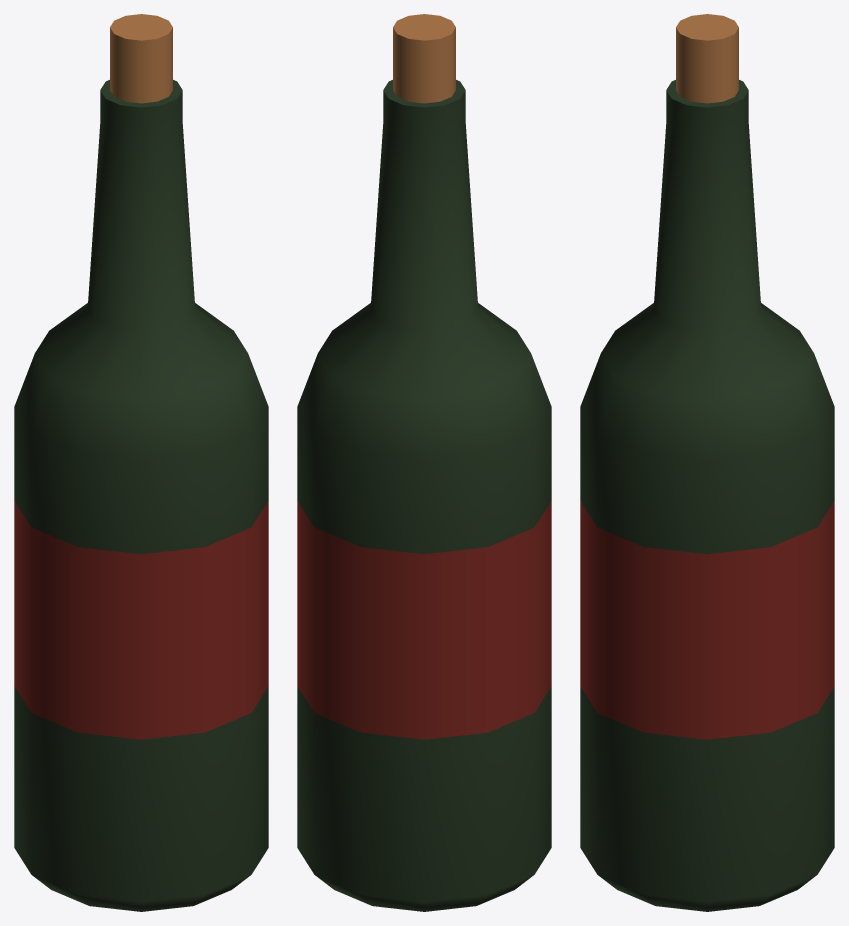
File: Bottiglia.fbx
3 renders of one model, left to right at view 1: azimuth 30°, elevation 25°; view 2: azimuth 150°, elevation 25°; view 3: azimuth 270°, elevation 25°, orthographic.
Parts seen in each view (by area): view 1: Bottiglia; view 2: Bottiglia; view 3: Bottiglia.
Boxes of the visible parts, x1,y1,x2,y2 form: Bottiglia: (14,14,268,911); Bottiglia: (297,14,551,911); Bottiglia: (580,14,834,911).
Size of the model in its own units: 0.1039 by 0.3789 by 0.1039.
